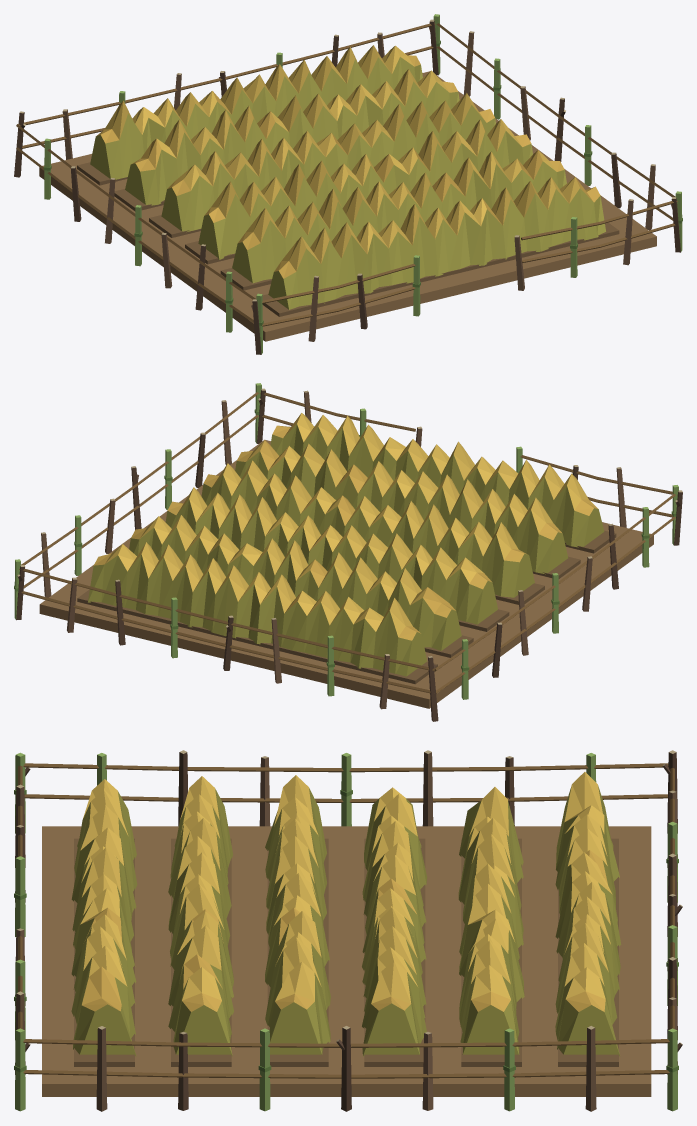
The model's file is field_ripe.glb.
3 views of the same model, one above another, from view 1: azimuth 30°, elevation 25°; view 2: azimuth 150°, elevation 25°; view 3: azimuth 270°, elevation 25° (orthographic). The views are drawn at different scales.
Parts seen in each view (by area): view 1: body_nl, body, body_nh; view 2: body_nl, body, body_nh; view 3: body, body_nl, body_nh.
Part boxes in pixels (x1,y1,x2,y2): body_nl: (90,45,605,309); body: (14,14,682,354); body_nh: (16,23,677,326); body_nl: (88,413,604,676); body: (14,383,682,721); body_nh: (19,392,675,693); body: (14,750,682,1111); body_nl: (71,772,621,1056); body_nh: (18,763,674,1078).
Bounding box in the file's own units: 3.76 × 0.6817 × 3.73.
